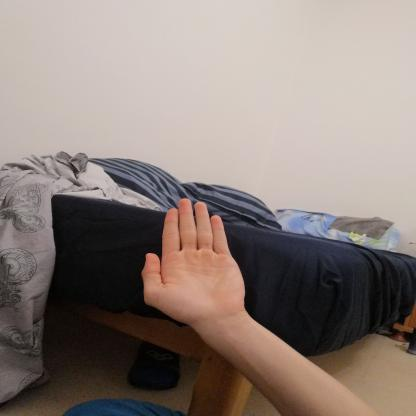SEEN: (133, 191, 254, 329)
